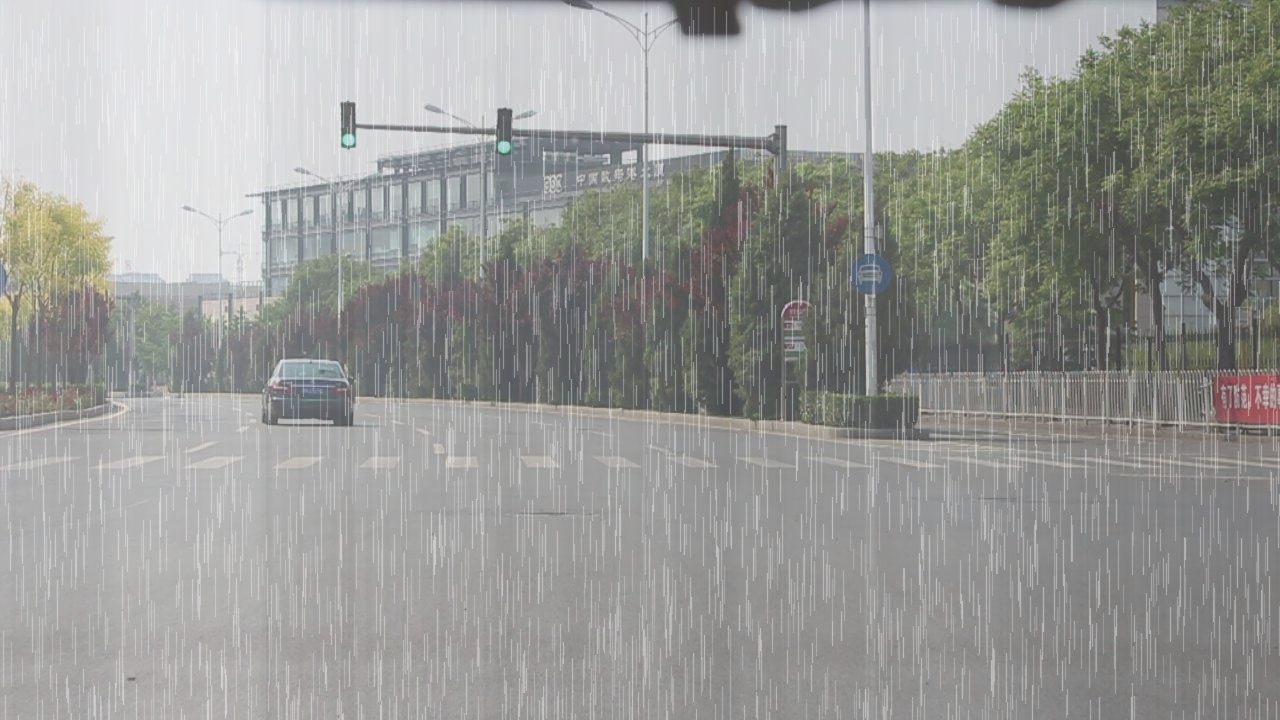Informative Signs: (850, 253, 893, 295)
